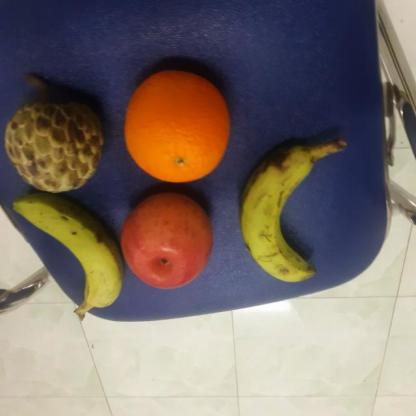annona: (3, 97, 108, 194)
apple: (121, 188, 216, 290)
banana: (9, 192, 127, 312), (238, 143, 328, 285)
orange: (121, 66, 231, 186)
